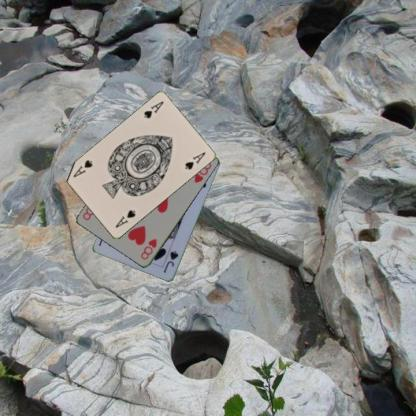8h: (138, 236, 158, 261)
As: (113, 207, 137, 230), (141, 99, 165, 120)
Js: (160, 244, 180, 274)
